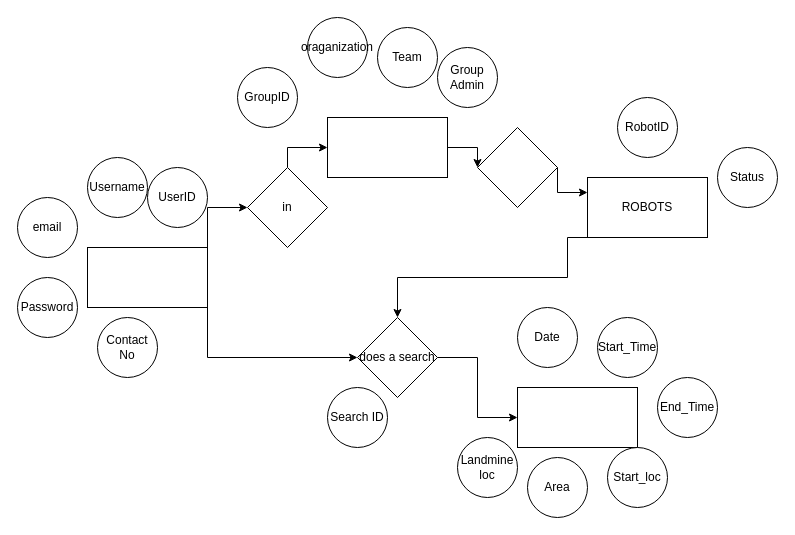
The diagram is 795 pixels wide and 535 high, and some of its shapes have lost their labels. The shapes that lost their labels are listed below. From the top down, each one's centre as x and y in pixels, then its label:
(387,147): GROUPS
(517,167): have
(147,277): USERS
(577,417): RUNS
